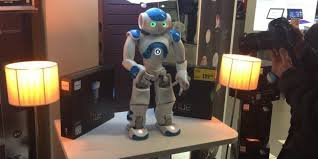nao: (115, 6, 195, 147)
